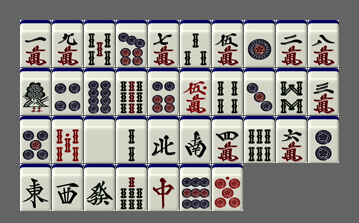0m: (180, 68, 211, 115)
0p: (212, 164, 243, 211)
0s: (52, 116, 83, 163)
1m: (20, 20, 51, 67)
1p: (244, 20, 275, 67)
1s: (20, 68, 51, 115)
1z: (20, 164, 51, 211)
2m: (276, 20, 307, 67)
2p: (308, 116, 339, 163)
2s: (116, 116, 147, 163)
2z: (180, 116, 211, 163)
3m: (308, 68, 339, 115)
3p: (244, 68, 275, 115)
3s: (180, 20, 211, 67)
3z: (52, 164, 83, 211)
4m: (212, 116, 243, 163)
4p: (52, 68, 83, 115)
4s: (212, 68, 243, 115)
4z: (148, 116, 179, 163)
5m: (212, 20, 243, 67)
5p: (20, 116, 51, 163)
5s: (84, 20, 115, 67)
5z: (84, 116, 115, 163)
6m: (276, 116, 307, 163)
6p: (148, 68, 179, 115)
6s: (244, 116, 275, 163)
6z: (84, 164, 115, 211)
7m: (148, 20, 179, 67)
7p: (116, 20, 147, 67)
7s: (116, 164, 147, 211)
7z: (148, 164, 179, 211)
8m: (308, 20, 339, 67)
8p: (84, 68, 115, 115)
8s: (276, 68, 307, 115)
9m: (52, 20, 83, 67)
9p: (180, 164, 211, 211)
9s: (116, 68, 147, 115)
